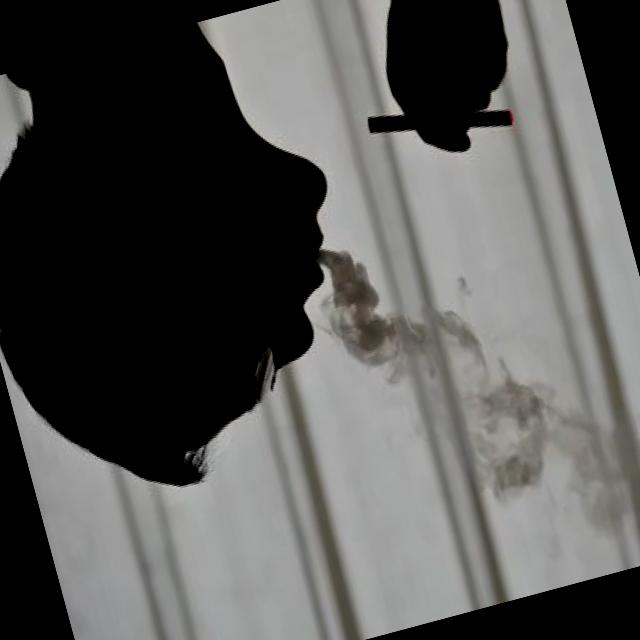smoke: (362, 69, 522, 166)
